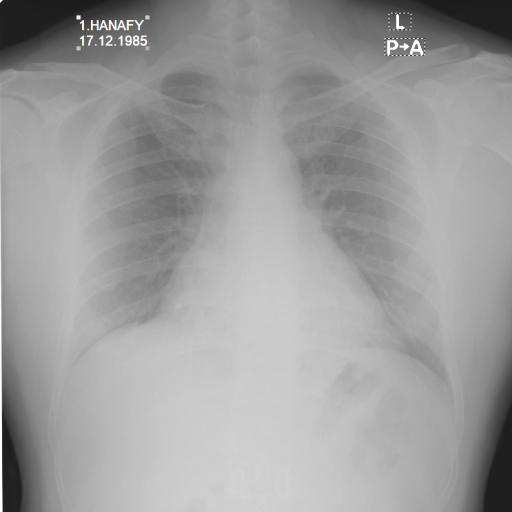kardiomegali: (42, 42, 462, 406)
